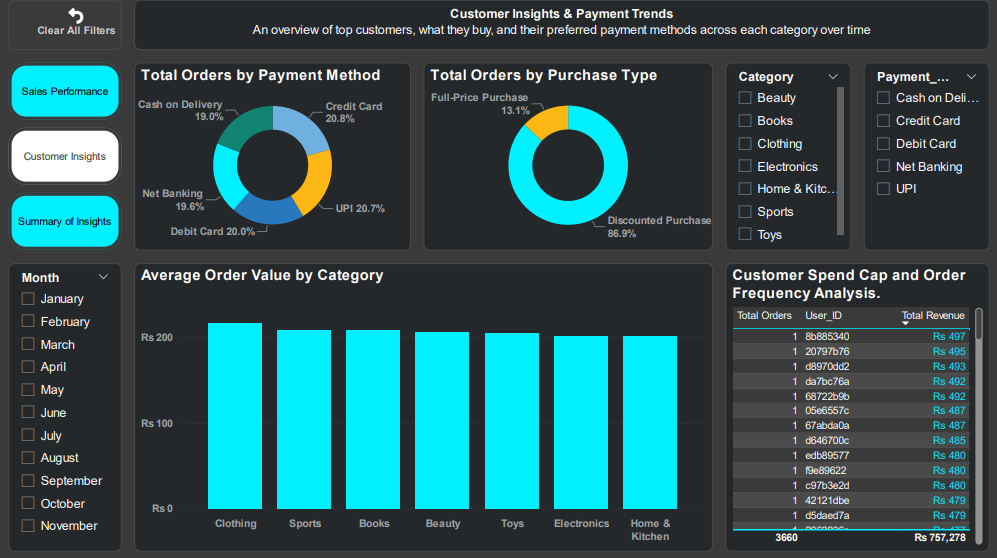

The page's visual inventory and layout, read from the dashboard file:
{"tool":"powerbi","page":{"name":"Customer Insights","canvas":[1280,720],"ordinal":1},"visuals":[{"type":"slicer","fields":{"Values":["Dim_product.Category"]},"box":[904,80,176,240],"z":0},{"type":"slicer","fields":{"Values":["Dim_PaymentMethod.Payment_Method"]},"box":[1088,80,176,240],"z":1000},{"type":"donutChart","title":"Total Orders by Payment Method","fields":{"Category":["Dim_PaymentMethod.Payment_Method"],"Y":["All Measures.Total Orders"]},"box":[176,80,336,240],"z":2000},{"type":"clusteredColumnChart","fields":{"Category":["Dim_product.Category"],"Y":["All Measures.Average Order Value"]},"box":[176,336,712,368],"z":3000},{"type":"tableEx","title":"Customer Spend Cap and Order Frequency Analysis.","fields":{"Values":["All Measures.Total Orders","Dim_UserID.User_ID","All Measures.Total Revenue"]},"box":[904,336,360,368],"z":4000},{"type":"slicer","fields":{"Values":["Fact_Sales.Month Name"]},"box":[16,336,144,368],"z":5000},{"type":"pageNavigator","box":[16,80,144,240],"z":6000},{"type":"textbox","box":[176,0,1088,64],"z":7000},{"type":"donutChart","title":"Total Orders by Purchase Type","fields":{"Y":["All Measures.Total Orders"],"Category":["Fact_Sales.Purchase Type"]},"box":[520,80,368,240],"z":8000},{"type":"actionButton","box":[16,0,144,64],"z":9000}]}

Visuals, with their boxes in screenshot pixels (x1, y1, x2, y2), scaled from the page's 1280x720 canvas onto the 997x558 screenshot:
slicer - Dim_product.Category: box=[704, 62, 841, 248]
slicer - Dim_PaymentMethod.Payment_Method: box=[847, 62, 985, 248]
"Total Orders by Payment Method" donutChart: box=[137, 62, 399, 248]
clusteredColumnChart - Dim_product.Category x All Measures.Average Order Value: box=[137, 260, 692, 546]
"Customer Spend Cap and Order Frequency Analysis." tableEx: box=[704, 260, 985, 546]
slicer - Fact_Sales.Month Name: box=[12, 260, 125, 546]
pageNavigator: box=[12, 62, 125, 248]
textbox: box=[137, 0, 985, 50]
"Total Orders by Purchase Type" donutChart: box=[405, 62, 692, 248]
actionButton: box=[12, 0, 125, 50]
